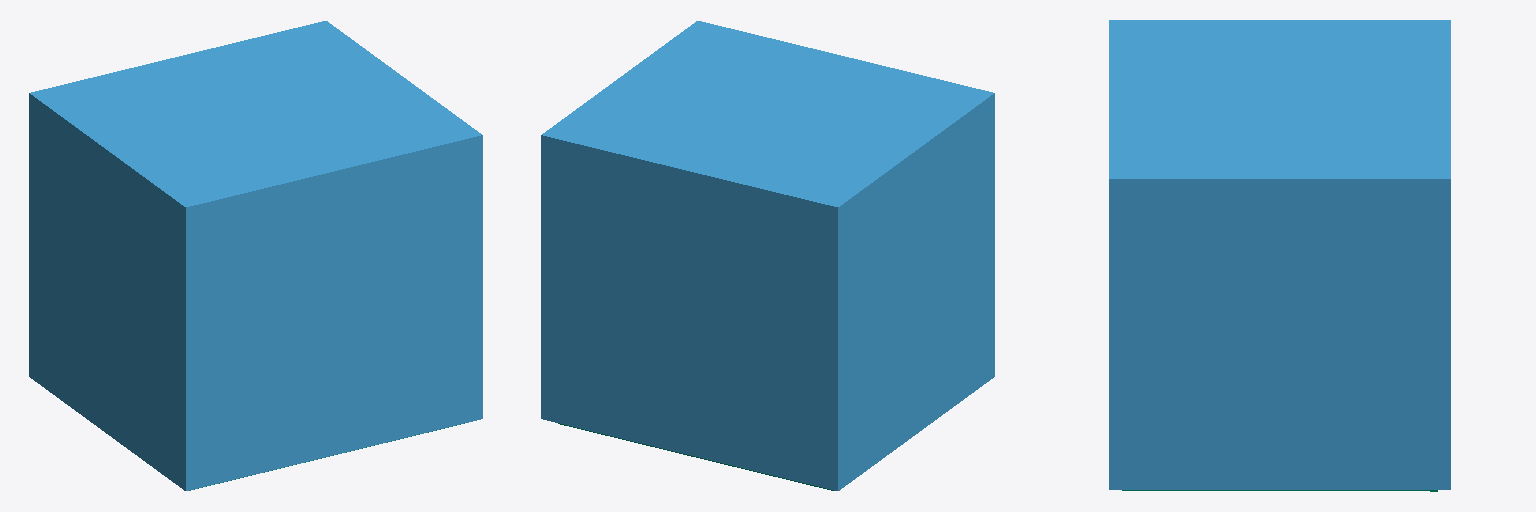
The robot description file, URDF, robot "right-pull-door":
<?xml version="1.0" ?>
<robot name="right-pull-door">
	<mujoco>
        <compiler meshdir="texture_stl" balanceinertia="true" discardvisual="false"/>
    </mujoco>
	<link name="base"/>
	<link name="link_0">
		<visual name="out-frame">
			<origin xyz="0 0 0"/>
			<geometry>
				<mesh filename="texture_stl/frame.stl" scale="0.25 0.25 0.25"/>
			</geometry>
		</visual>
		<collision>
			<origin xyz="0 0 0"/>
			<geometry>
				<mesh filename="texture_stl/frame.stl" scale="0.25 0.25 0.25"/>
			</geometry>
		</collision>
	</link>
	<joint name="joint_0" type="fixed">
		<origin rpy="1.570796326794897 0 -1.570796326794897" xyz="0 0 0"/>
		<child link="link_0"/>
		<parent link="base"/>
	</joint>
	<link name="link_1">
		<visual name="surf-board">
			<origin xyz="0.24938794880209883 0 0"/>
			<geometry>
				<mesh filename="texture_stl/board.stl" scale="0.25 0.25 0.25"/>
			</geometry>
		</visual>
		<collision>
			<origin xyz="0.24938794880209883 0 0"/>
			<geometry>
				<mesh filename="texture_stl/board.stl" scale="0.25 0.25 0.25"/>
			</geometry>
		</collision>
	</link>
	<joint name="joint_1" type="revolute">
		<origin xyz="-0.24938794880209883 0 0"/>
		<axis xyz="0 -1 0"/>
		<child link="link_1"/>
		<parent link="link_0"/>
		<limit lower="0" upper="1.5079644737231006"/>
	</joint>
	<link name="link_2">
		<visual name="handle">
			<origin xyz="0 0 0"/>
			<geometry>
				<mesh filename="texture_stl/9961229.stl" scale="0.1 0.1 0.1"/>
			</geometry>
		</visual>
		<collision>
			<origin xyz="0 0 0"/>
			<geometry>
				<mesh filename="texture_stl/9961229.stl" scale="0.1 0.1 0.1"/>
			</geometry>
		</collision>
	</link>
	<joint name="joint_2" type="revolute">
		<origin xyz="0.24938794880209883 0 0.02924961288422984"/>
		<child link="link_2"/>
		<parent link="link_1"/>
		<axis xyz="0 0 1"/>
		<limit lower="0" upper="1.5079644737231006"/>
	</joint>
</robot>

--- What the picture shows (computed from the rendered views, not written in the file) ---
The picture shows the robot from 3 angles, left to right: view 1: azimuth 30°, elevation 25°; view 2: azimuth 150°, elevation 25°; view 3: azimuth 270°, elevation 25°; orthographic projection.
Model right-pull-door with 4 links and 3 joints (2 revolute, 1 fixed), rooted at base, posed all joints at 0.
Visible links, largest first — view 1: link_0; view 2: link_0; view 3: link_0.
Link boxes in pixels (bbox=[...]): link_0: bbox=[29, 21, 482, 490]; link_0: bbox=[541, 21, 994, 490]; link_0: bbox=[1109, 20, 1450, 489].
Size in the robot's own frame: 0.593 by 0.5413 by 0.6087 metres.
3 mesh visuals loaded from 3 distinct referenced files (3 binary STL).